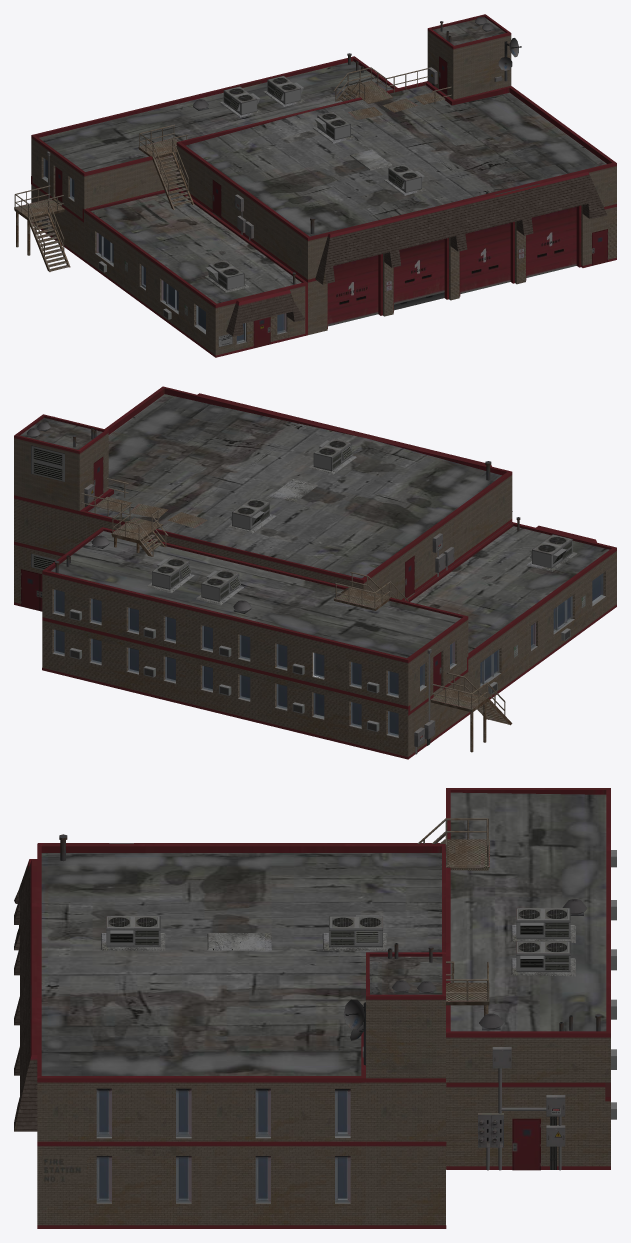
The model's file is fire-l1b.glb.
3 views of the same model, one above another, from view 1: azimuth 30°, elevation 25°; view 2: azimuth 150°, elevation 25°; view 3: azimuth 270°, elevation 25° (orthographic). The views are drawn at different scales.
Parts seen in each view (by area): view 1: LOD0; view 2: LOD0; view 3: LOD0.
Part boxes in pixels (x1,y1,x2,y2): LOD0: [14, 14, 616, 357]; LOD0: [14, 386, 616, 759]; LOD0: [14, 788, 616, 1228].
Bounding box in the file's own units: 31 × 10.48 × 23.41.
1 material, 1 textured.
